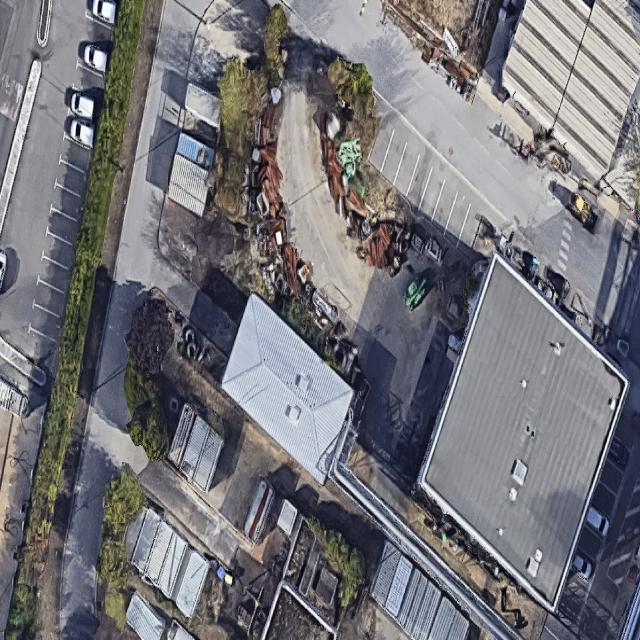immeuble: (392, 252, 640, 612), (189, 292, 384, 486)
